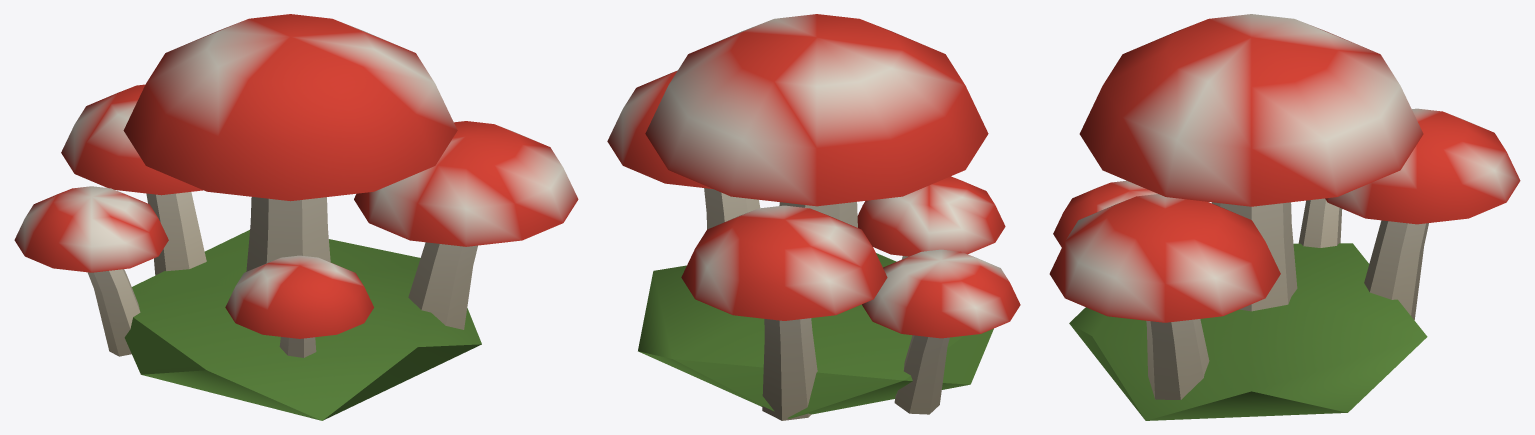
Rendered from mushrooms_red.glb.
3 views of the same model, side by side, from view 1: azimuth 30°, elevation 25°; view 2: azimuth 150°, elevation 25°; view 3: azimuth 270°, elevation 25° (orthographic). The views are drawn at different scales.
Visible parts, largest first — view 1: mushrooms_red; view 2: mushrooms_red; view 3: mushrooms_red.
Boxes of the visible parts, x1,y1,x2,y2 form: mushrooms_red: [14, 14, 578, 420]; mushrooms_red: [607, 14, 1020, 420]; mushrooms_red: [1049, 14, 1520, 420].
Size of the model in its own units: 0.6289 by 0.4266 by 0.5443.
